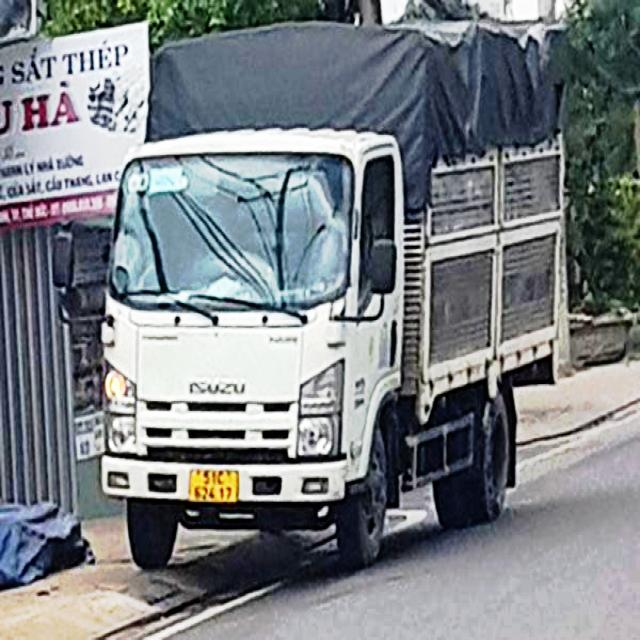license_plate: (190, 470, 241, 503)
